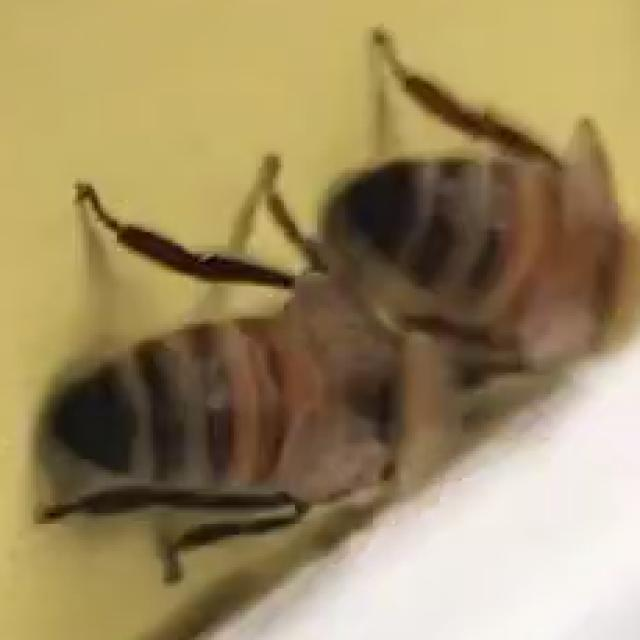honeybee: (59, 207, 544, 566), (317, 78, 640, 424)
